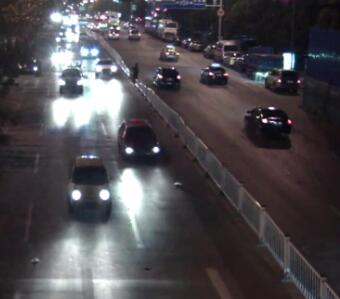bus: (150, 17, 177, 41), (142, 14, 159, 33)
car: (68, 155, 113, 217), (243, 105, 293, 143), (117, 118, 159, 162), (242, 43, 281, 79), (263, 67, 302, 94), (151, 65, 182, 91), (57, 66, 85, 94), (199, 62, 229, 87), (209, 38, 238, 59), (12, 55, 39, 75), (75, 39, 101, 59), (93, 57, 118, 77), (161, 43, 181, 61), (223, 48, 242, 66), (181, 35, 202, 51), (201, 42, 218, 58), (126, 26, 142, 41), (53, 30, 69, 45), (106, 24, 120, 40)
